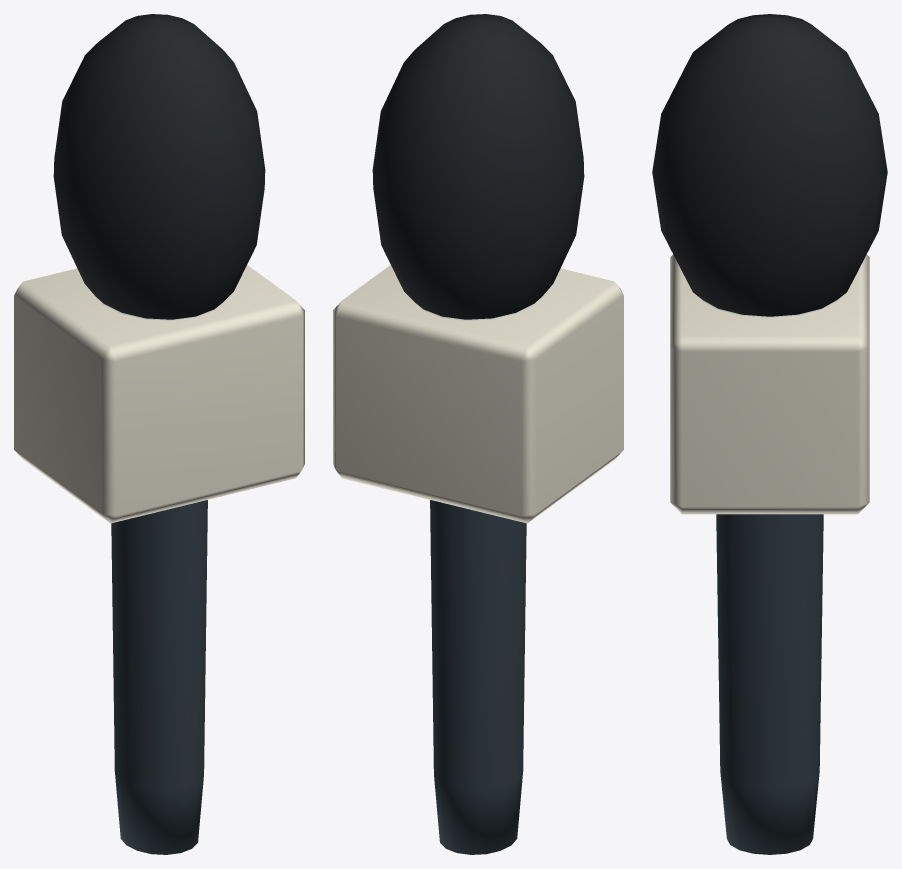
File: P083_interview_mic_rebuilt.glb
3 views of the same model, side by side, from view 1: azimuth 30°, elevation 25°; view 2: azimuth 150°, elevation 25°; view 3: azimuth 270°, elevation 25° (orthographic).
Parts seen in each view (by area): view 1: white, rubber, shell; view 2: white, rubber, shell; view 3: rubber, white, shell.
Boxes of the visible parts, x1,y1,x2,y2 form: white: (14, 265, 304, 523); rubber: (53, 14, 265, 319); shell: (111, 500, 207, 854); white: (333, 265, 623, 523); rubber: (372, 14, 584, 319); shell: (430, 500, 526, 854); rubber: (652, 14, 887, 316); white: (670, 254, 869, 514); shell: (716, 514, 823, 854).
Bounding box in the file's own units: 0.078 × 0.2995 × 0.078.
